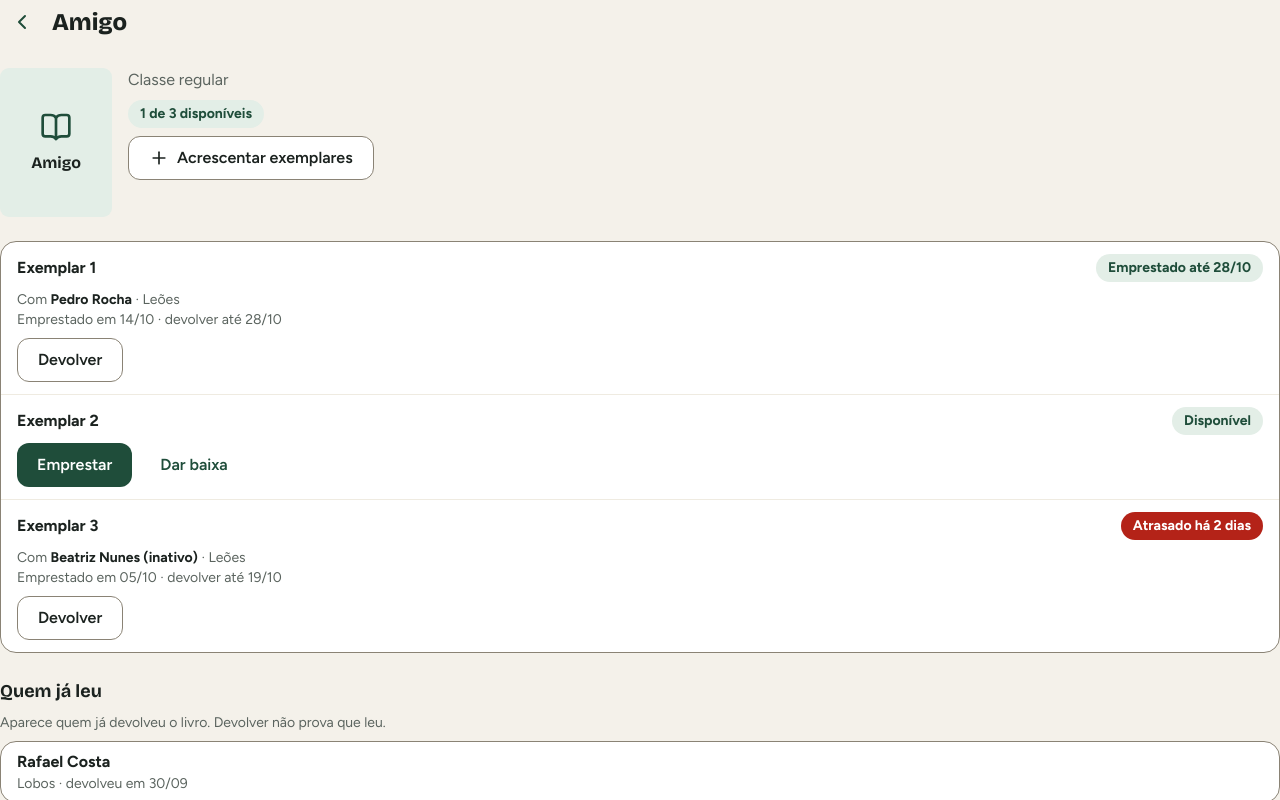
Scenario: detalhe do livro › Emprestar no exemplar escolhido abre o diálogo nele e grava o empréstimo desse exemplar
The width and height of the screenshot is (1280, 800).
Click the button with aria-label "Emprestar o exemplar 2" at [75, 465], box [17,443,132,487]
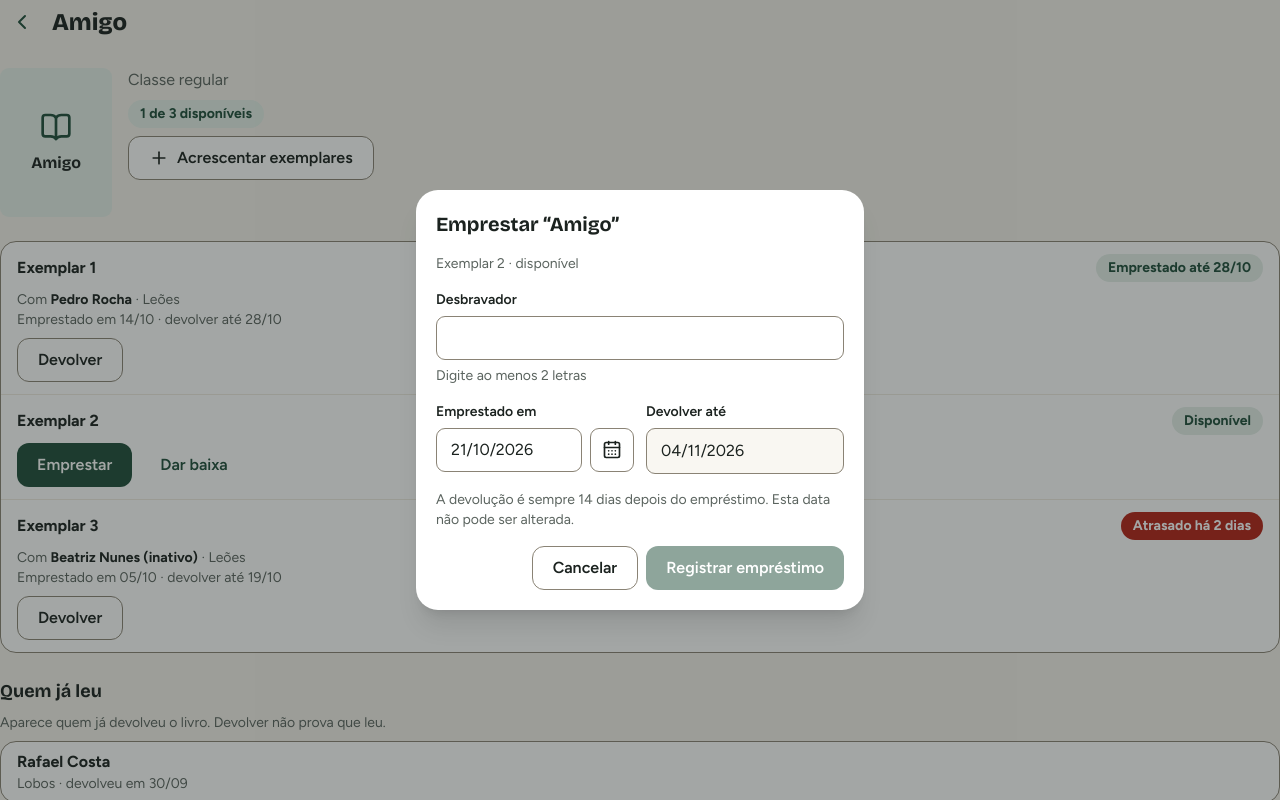
Expected: the text "Exemplar 2 · disponível" is shown, [436,255,579,272]
Type "Lu" into the search field labelled "Desbravador" at [640, 338], box [436,316,844,360]
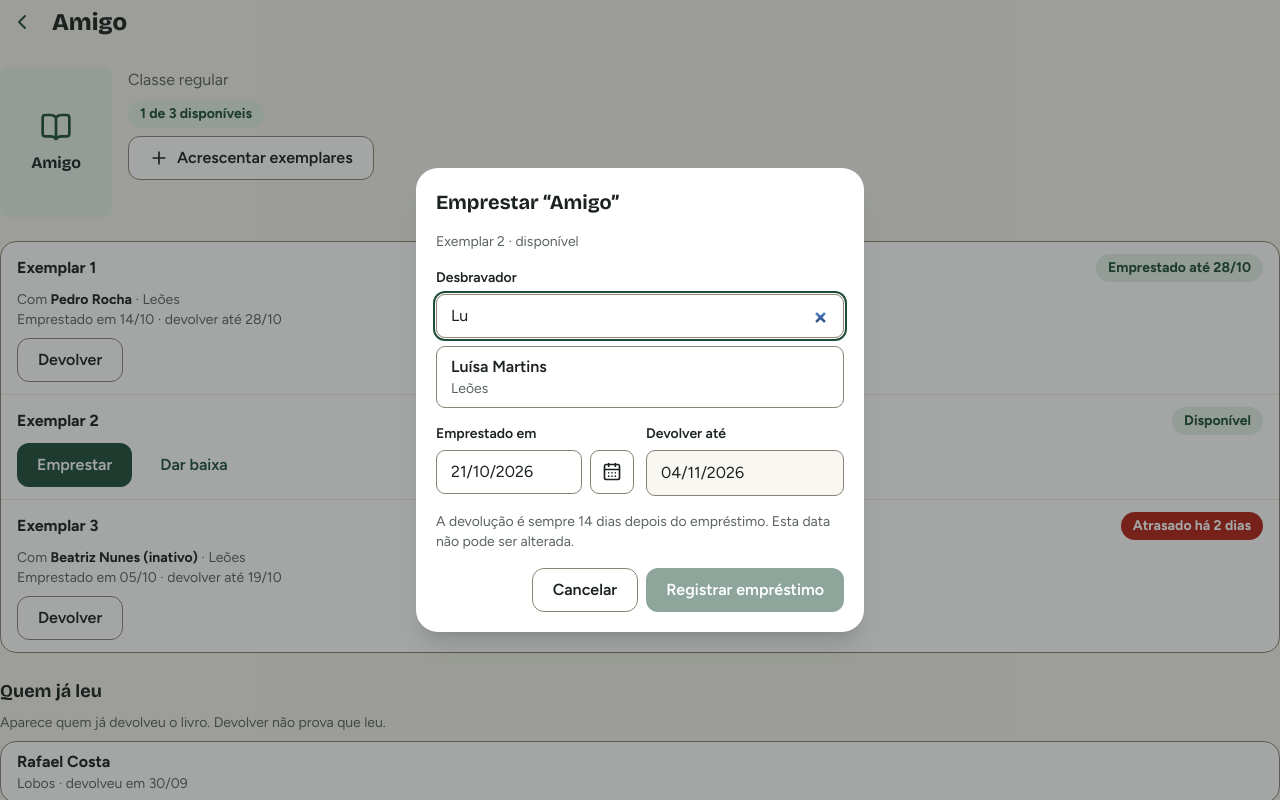
Click the button "Luísa Martins Leões" at [499, 366], box [437,347,843,407]
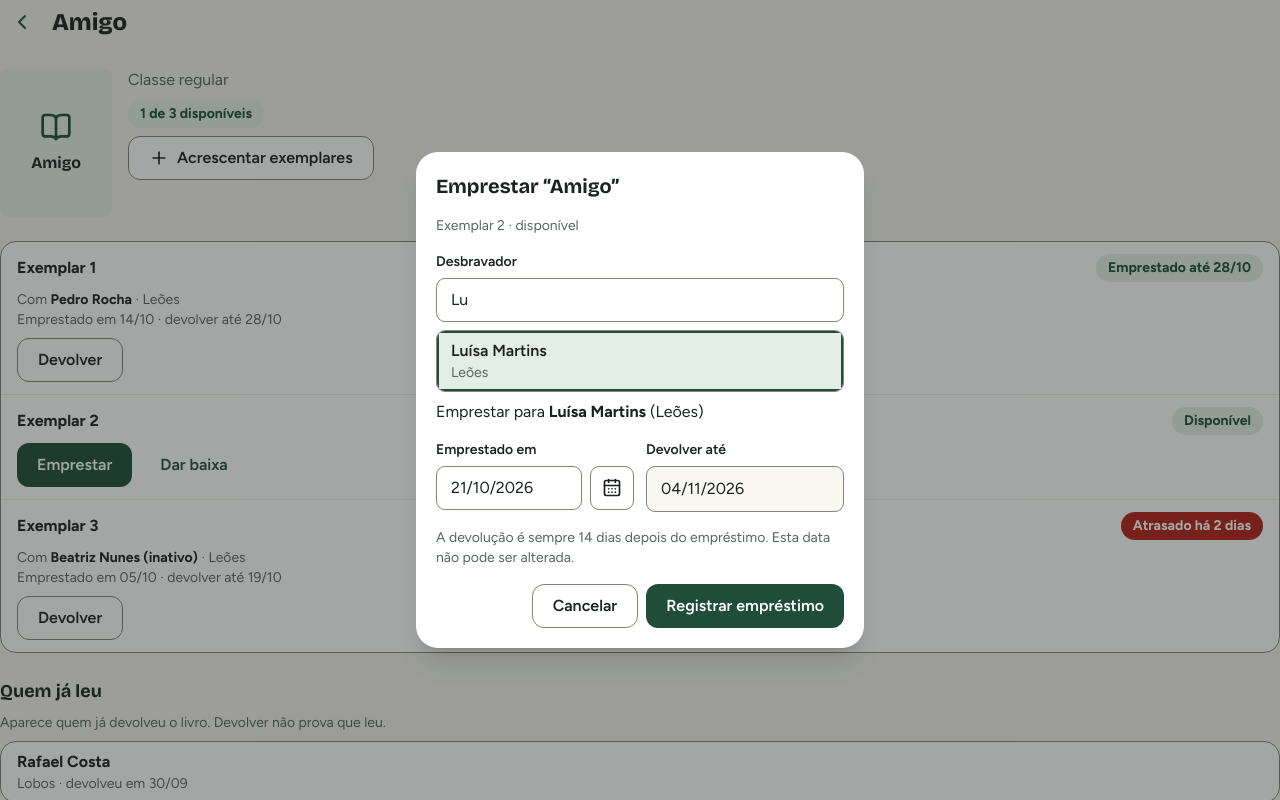
Click the button "Registrar empréstimo" at [745, 606], box [646,584,844,628]
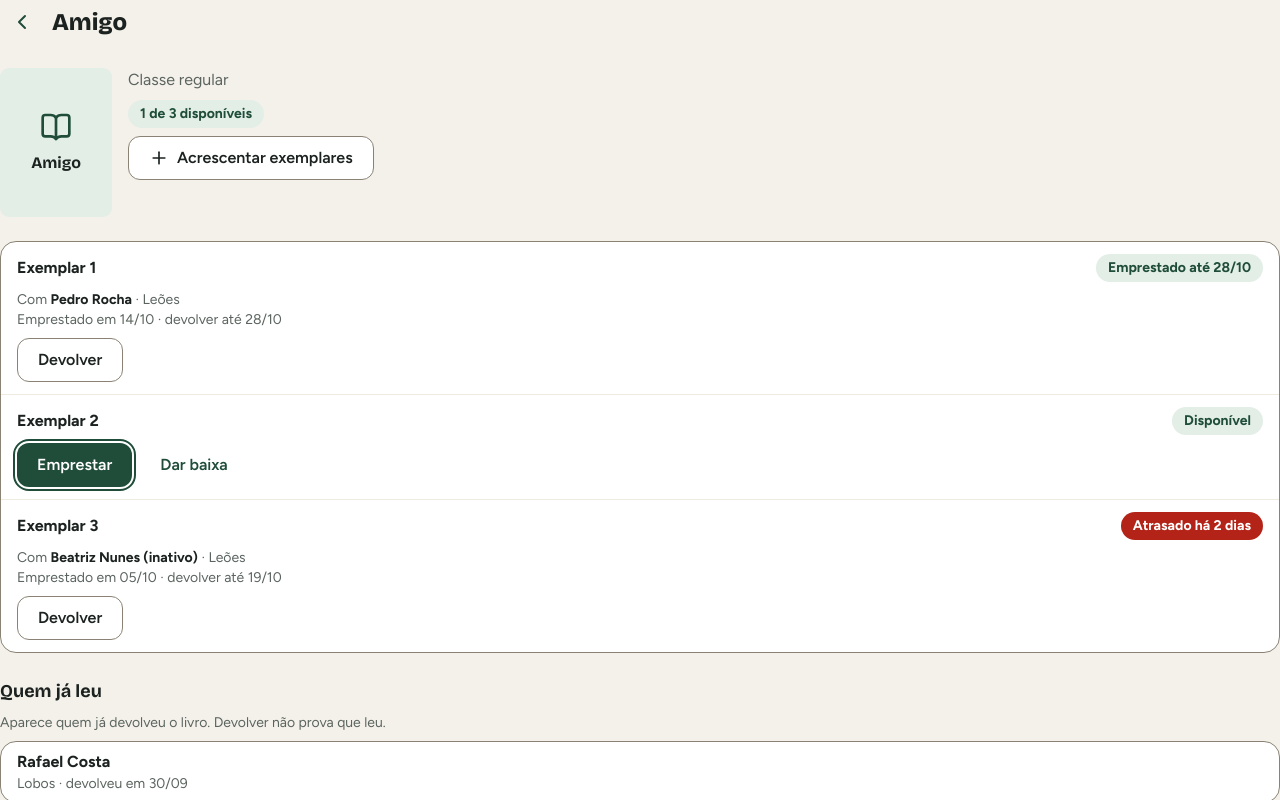
Expected: the dialog is gone
